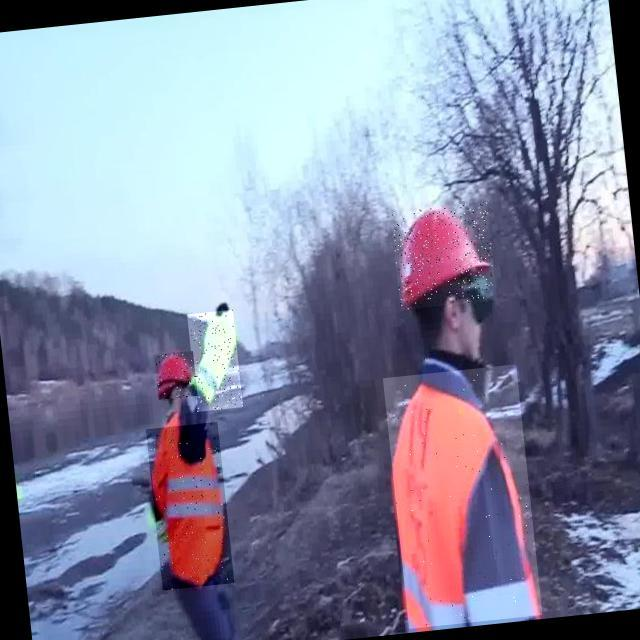Helmet: (390, 202, 497, 310), (155, 351, 199, 400)
Person: (338, 167, 569, 640), (122, 279, 270, 640)
Safety Vest: (383, 364, 542, 629), (145, 422, 234, 591), (187, 309, 243, 411)
